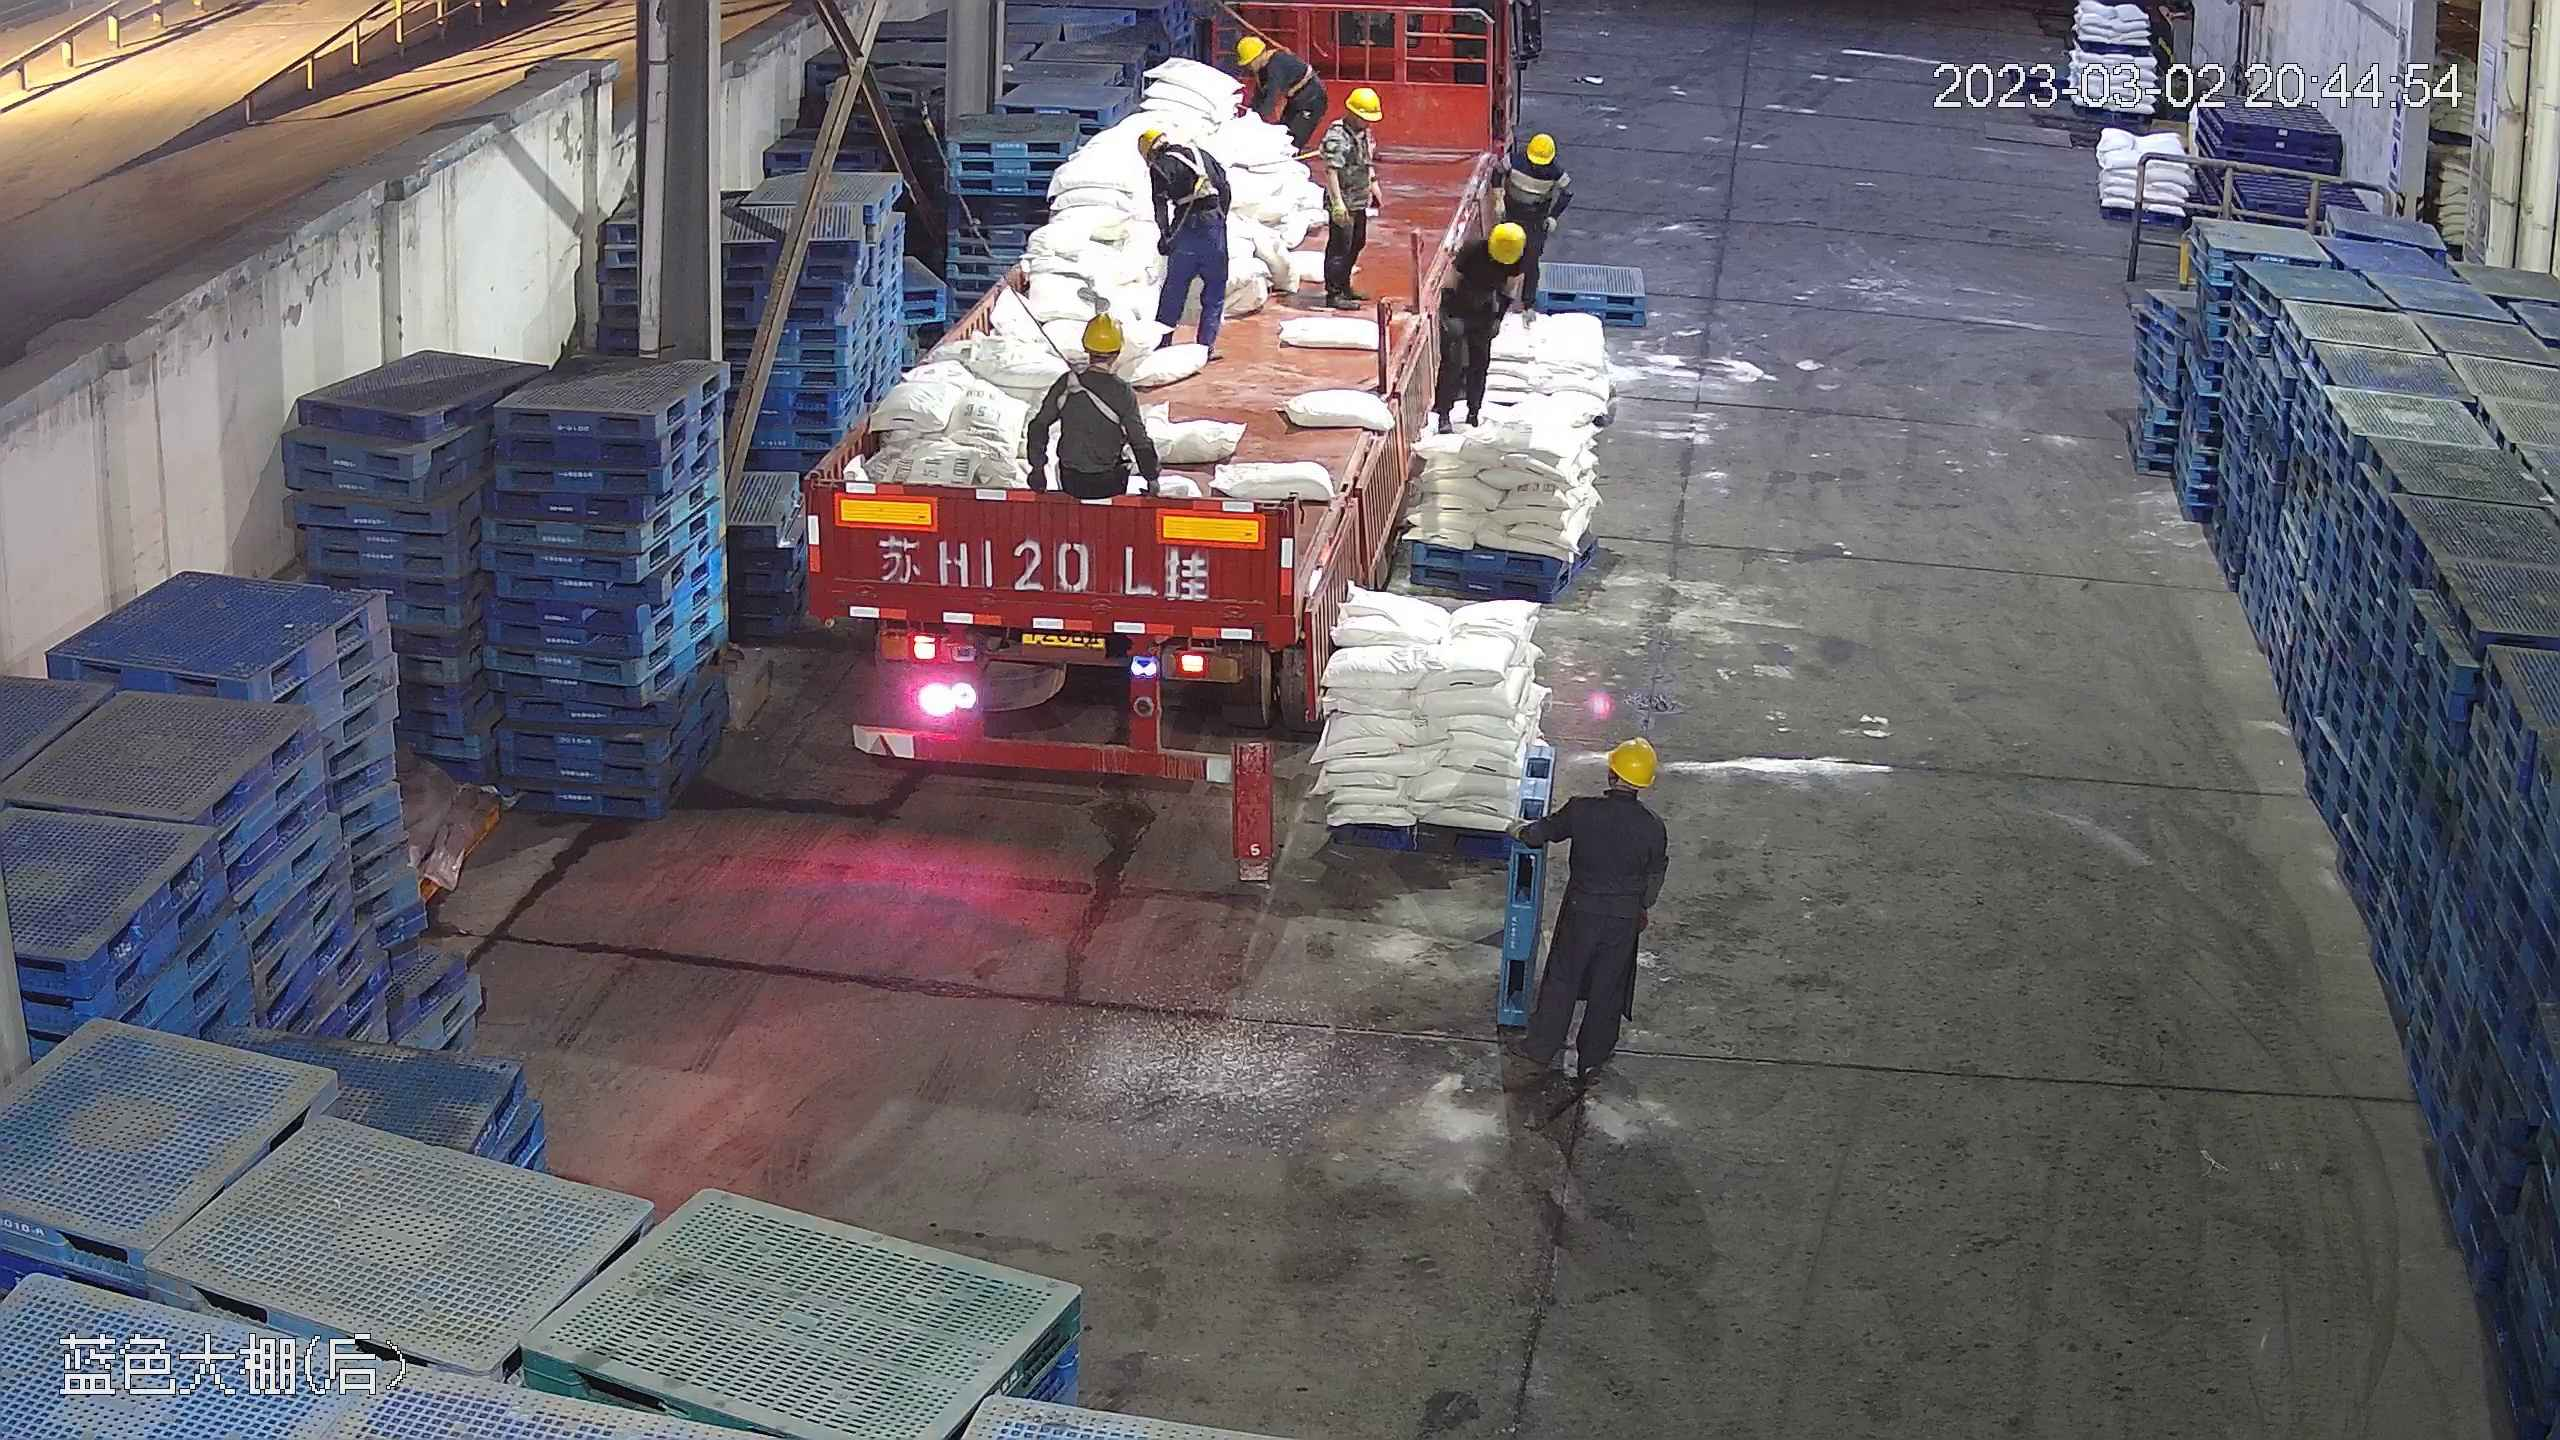belt: (1041, 361, 1135, 447), (1162, 142, 1227, 206), (1326, 121, 1375, 177), (1271, 35, 1315, 95)
head: (1550, 732, 1667, 856), (1042, 311, 1146, 413), (1481, 133, 1563, 204), (1137, 124, 1220, 192), (1447, 222, 1527, 290), (1321, 88, 1384, 164), (1235, 33, 1310, 92)
helmet: (1043, 310, 1141, 413), (1135, 123, 1207, 180), (1603, 734, 1657, 786), (1076, 311, 1127, 355), (1488, 220, 1526, 266), (1236, 33, 1272, 67), (1525, 131, 1559, 164), (1345, 89, 1383, 118), (1134, 125, 1168, 155)
people: (1511, 728, 1668, 1115), (1024, 287, 1164, 549), (1135, 122, 1232, 354), (1424, 216, 1529, 426), (1465, 129, 1570, 327), (1309, 86, 1383, 307), (1232, 32, 1333, 176)
truck: (825, 20, 1503, 792)
